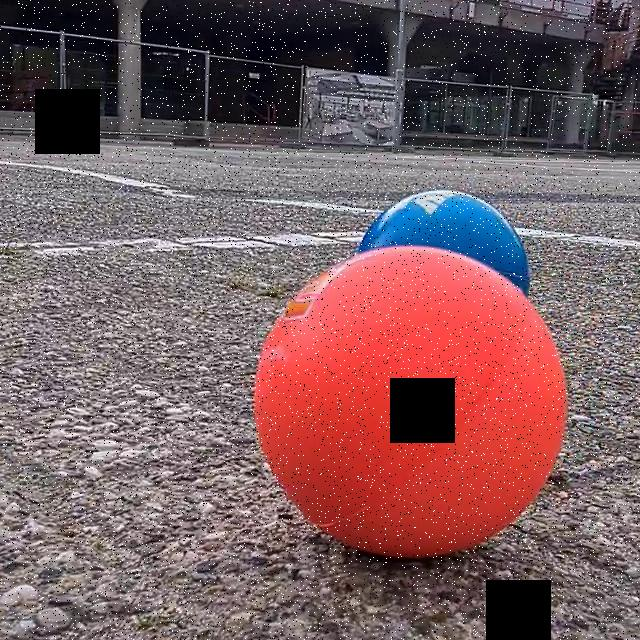ball: (249, 263, 571, 556), (358, 187, 526, 266)
